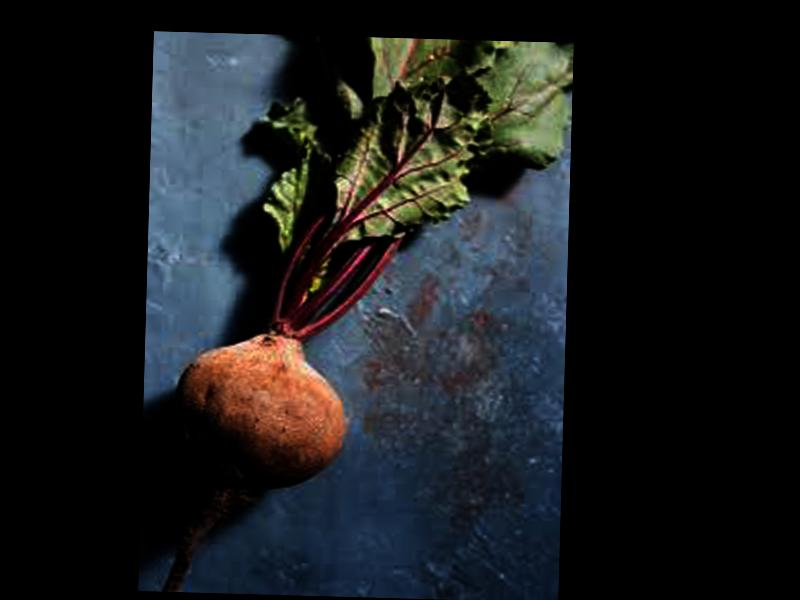Beet: (165, 31, 571, 600)
